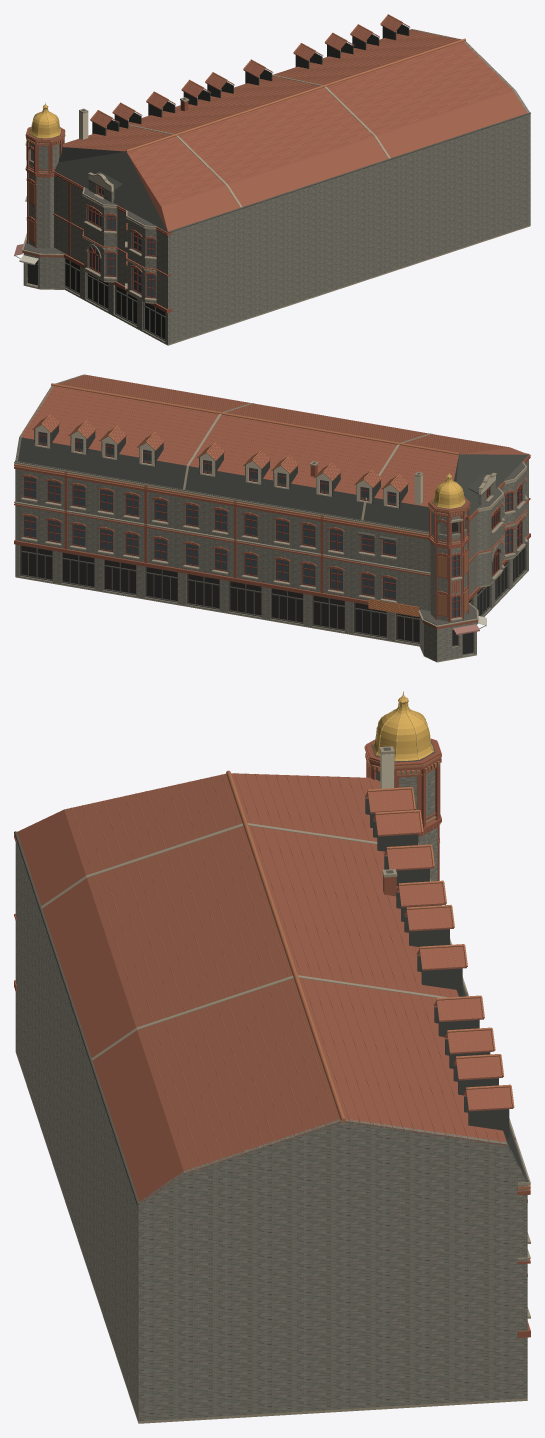
The model's file is hongkou-young-allen-court-gilded-corner-raw.glb.
The picture shows the model from 3 angles, top to bottom: view 1: azimuth 30°, elevation 25°; view 2: azimuth 150°, elevation 25°; view 3: azimuth 270°, elevation 25°; orthographic projection. The views are drawn at different scales.
Visible parts, largest first — view 1: 乍浦路260号金顶角楼与老虎窗; view 2: 乍浦路260号金顶角楼与老虎窗; view 3: 乍浦路260号金顶角楼与老虎窗.
Part boxes in pixels (x1,y1,x2,y2): 乍浦路260号金顶角楼与老虎窗: [14, 14, 530, 345]; 乍浦路260号金顶角楼与老虎窗: [14, 374, 530, 662]; 乍浦路260号金顶角楼与老虎窗: [14, 691, 530, 1423].
Bounding box in the file's own units: 44.51 × 16.67 × 23.
Materials: 17 (1 with a texture image).
